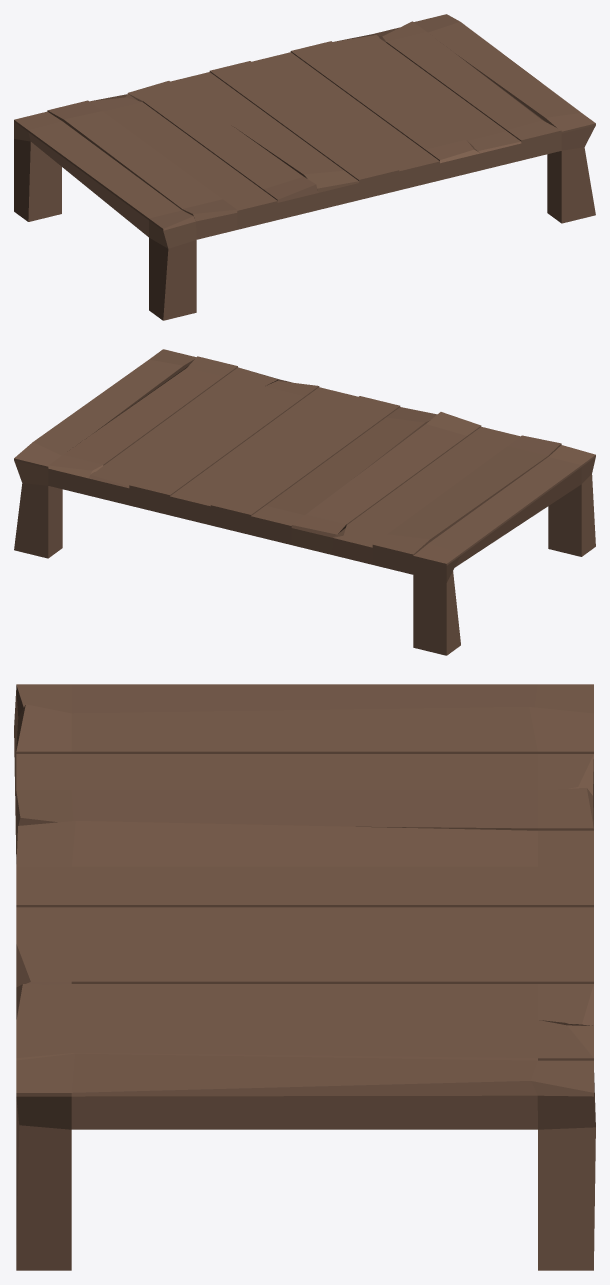
The model's file is grand-table-02.obj.
3 renders of one model, top to bottom at view 1: azimuth 30°, elevation 25°; view 2: azimuth 150°, elevation 25°; view 3: azimuth 270°, elevation 25°, orthographic. The views are drawn at different scales.
Parts seen in each view (by area): view 1: grand-table-02; view 2: grand-table-02; view 3: grand-table-02.
Boxes of the visible parts, left/top/right/bottom form: grand-table-02: left=14, top=14, right=595, bottom=320; grand-table-02: left=14, top=349, right=595, bottom=655; grand-table-02: left=14, top=684, right=595, bottom=1270.
Bounding box in the file's own units: 0.9749 × 0.2112 × 0.5868.
